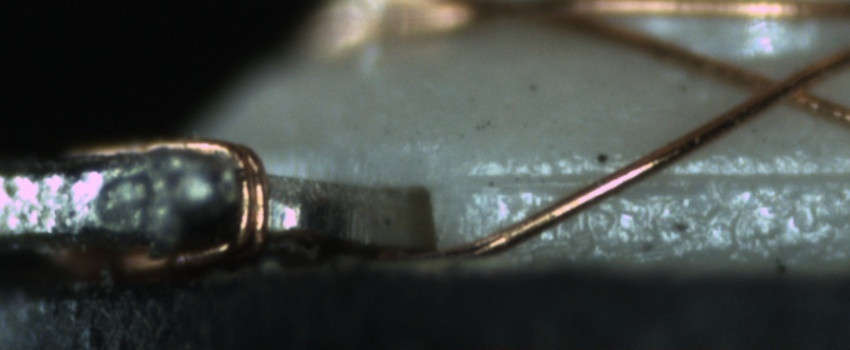CL: (733, 59, 827, 116)
DL: (475, 154, 849, 208)
TE: (45, 126, 283, 295)
